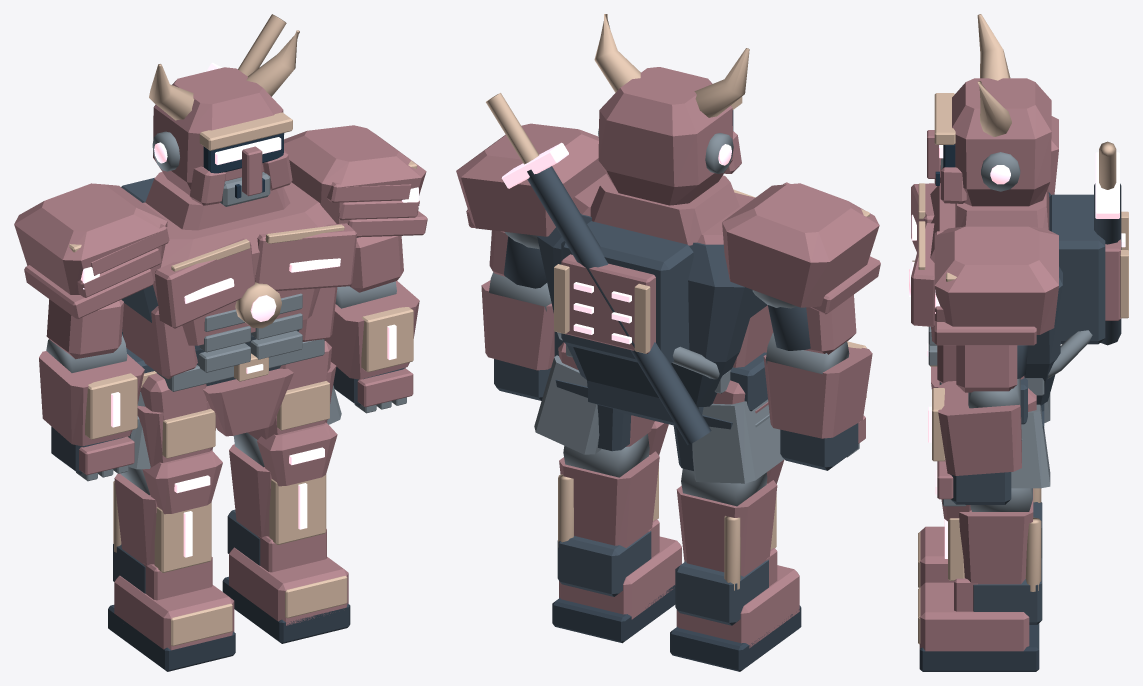
Rendered from character_ronin.glb.
The picture shows the model from 3 angles, left to right: view 1: azimuth 30°, elevation 25°; view 2: azimuth 150°, elevation 25°; view 3: azimuth 270°, elevation 25°; orthographic projection. The views are drawn at different scales.
Visible parts, largest first — view 1: shoulder_pauldron_63, shoulder_pauldron_78, helmet_94, thorax_carapace_2, pectoral_plate_13, pectoral_plate_3, forearm_bracer_69, boot_toe_47, boot_toe_31, codpiece_24, neck_guard_collar_93, forearm_bracer_84 (+59 smaller); view 2: shoulder_pauldron_63, helmet_94, torso_1, shoulder_pauldron_78, reactor_pack_108, forearm_bracer_69, blade_scabbard_130, shin_armor_51, shin_armor_35, hip_lamellar_skirt_124, neck_guard_collar_93, reactor_armored_cover_109 (+35 smaller); view 3: shoulder_pauldron_78, helmet_94, reactor_pack_108, forearm_bracer_84, boot_toe_47, shin_armor_51, upper_arm_plate_82, boot_sole_46, neck_guard_collar_93, boot_ankle_49, hip_lamellar_skirt_129, shoulder_lamellar_128 (+29 smaller).
Boxes of the visible parts, x1,y1,x2,y2 form: shoulder_pauldron_63: [14, 183, 167, 294]; shoulder_pauldron_78: [284, 125, 426, 223]; helmet_94: [153, 67, 283, 195]; thorax_carapace_2: [143, 182, 336, 345]; pectoral_plate_13: [255, 223, 356, 291]; pectoral_plate_3: [154, 238, 254, 328]; forearm_bracer_69: [39, 351, 144, 446]; boot_toe_47: [229, 547, 348, 625]; boot_toe_31: [114, 575, 234, 650]; codpiece_24: [203, 368, 293, 436]; neck_guard_collar_93: [145, 172, 290, 230]; forearm_bracer_84: [326, 281, 419, 379]; shoulder_pauldron_63: [722, 183, 879, 307]; helmet_94: [598, 67, 733, 205]; torso_1: [537, 214, 767, 406]; shoulder_pauldron_78: [456, 123, 606, 236]; reactor_pack_108: [561, 221, 693, 363]; forearm_bracer_69: [763, 347, 872, 438]; blade_scabbard_130: [527, 166, 711, 444]; shin_armor_51: [559, 451, 659, 547]; shin_armor_35: [676, 480, 777, 576]; hip_lamellar_skirt_124: [692, 399, 784, 483]; neck_guard_collar_93: [590, 175, 739, 245]; reactor_armored_cover_109: [561, 254, 655, 353]; shoulder_pauldron_78: [934, 226, 1058, 334]; helmet_94: [952, 78, 1051, 206]; reactor_pack_108: [1049, 194, 1105, 344]; forearm_bracer_84: [938, 381, 1021, 475]; boot_toe_47: [919, 582, 1029, 651]; shin_armor_51: [959, 488, 1033, 584]; upper_arm_plate_82: [956, 345, 1017, 392]; boot_sole_46: [919, 623, 1039, 671]; neck_guard_collar_93: [955, 188, 1049, 229]; boot_ankle_49: [973, 558, 1042, 624]; hip_lamellar_skirt_129: [1011, 404, 1050, 488]; shoulder_lamellar_128: [934, 321, 1036, 345].
Size of the model in its own units: 1.68 by 2.57 by 0.8835.
